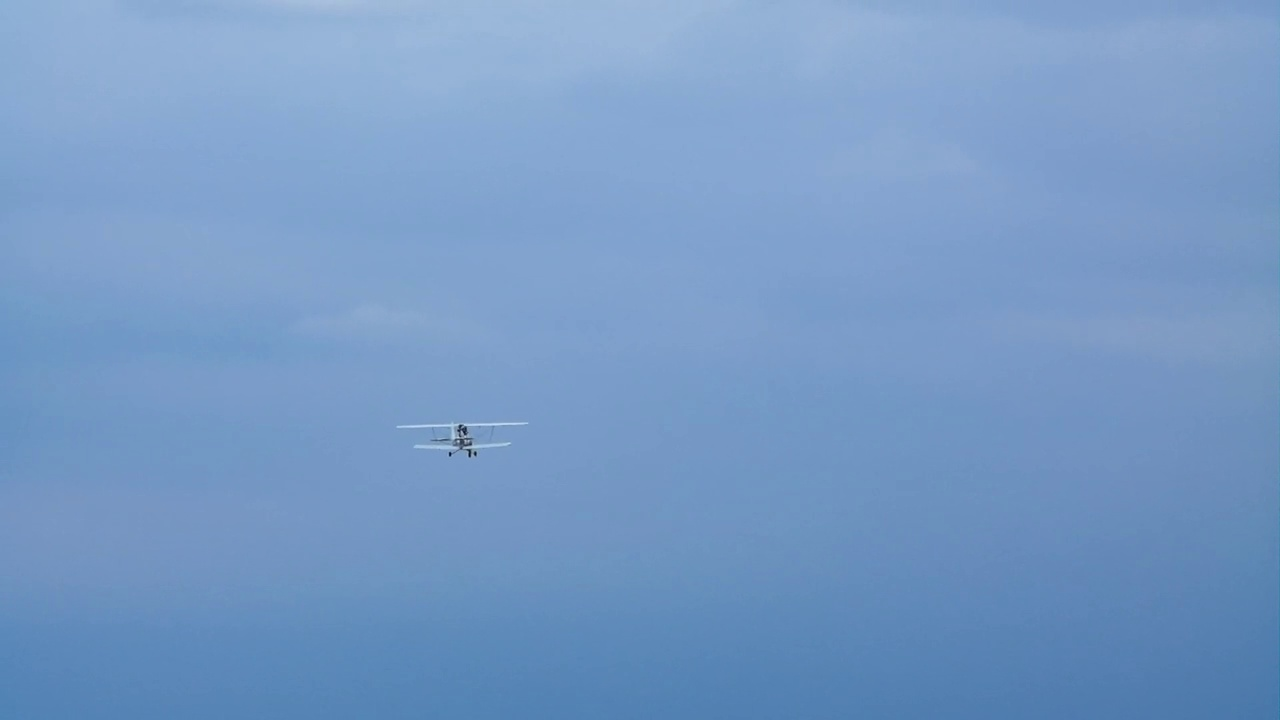plane: (395, 420, 529, 459)
